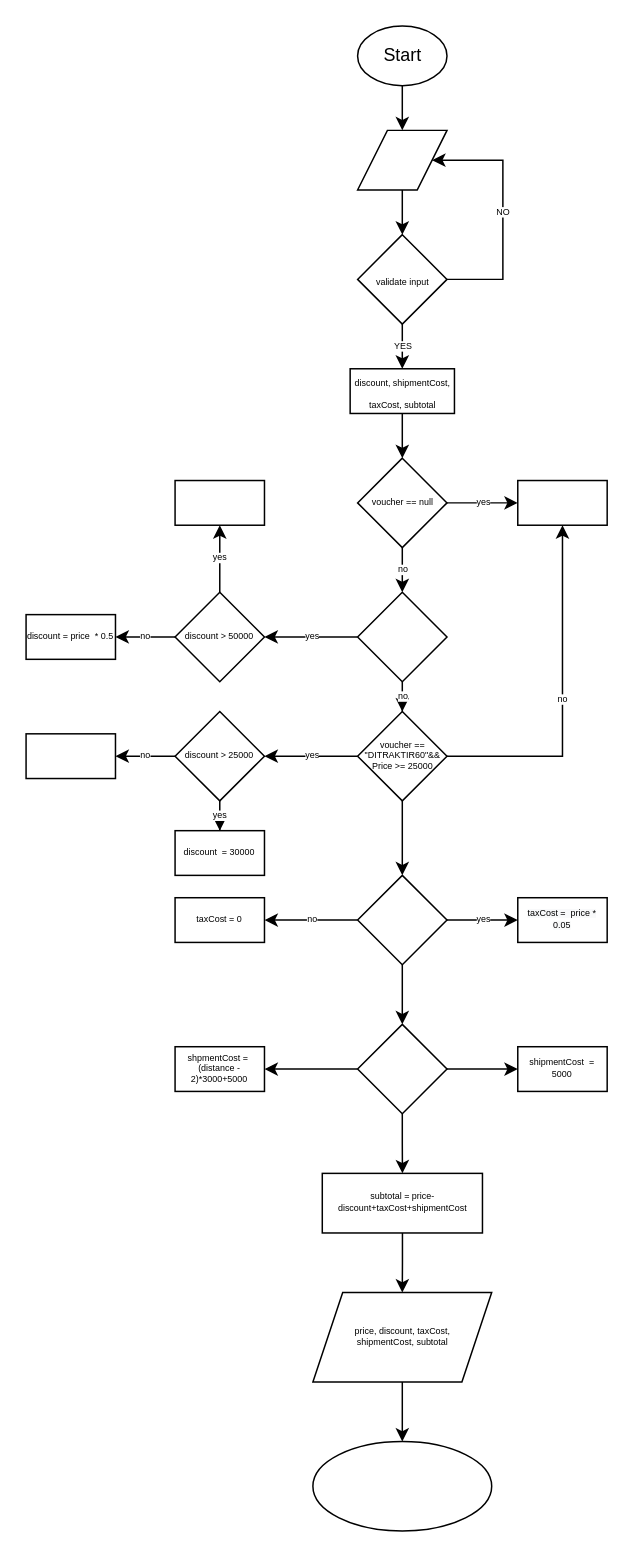
The diagram is 633 pixels wide and 1557 high, and some of its shapes have lost their labels. The shapes that lost their labels are listed below. From the top down, each one's centre as x and y in pixels, then its label:
the point at 401,159: price, voucher, distance, tax
the point at 219,502: discount = 50000
the point at 561,502: discount = 0
the point at 401,636: voucher == "DITRAKTIR50 && price >=50000
the point at 70,755: discount = price * 0.6
the point at 401,919: tax
the point at 401,1068: distance <=2
the point at 401,1485: END
